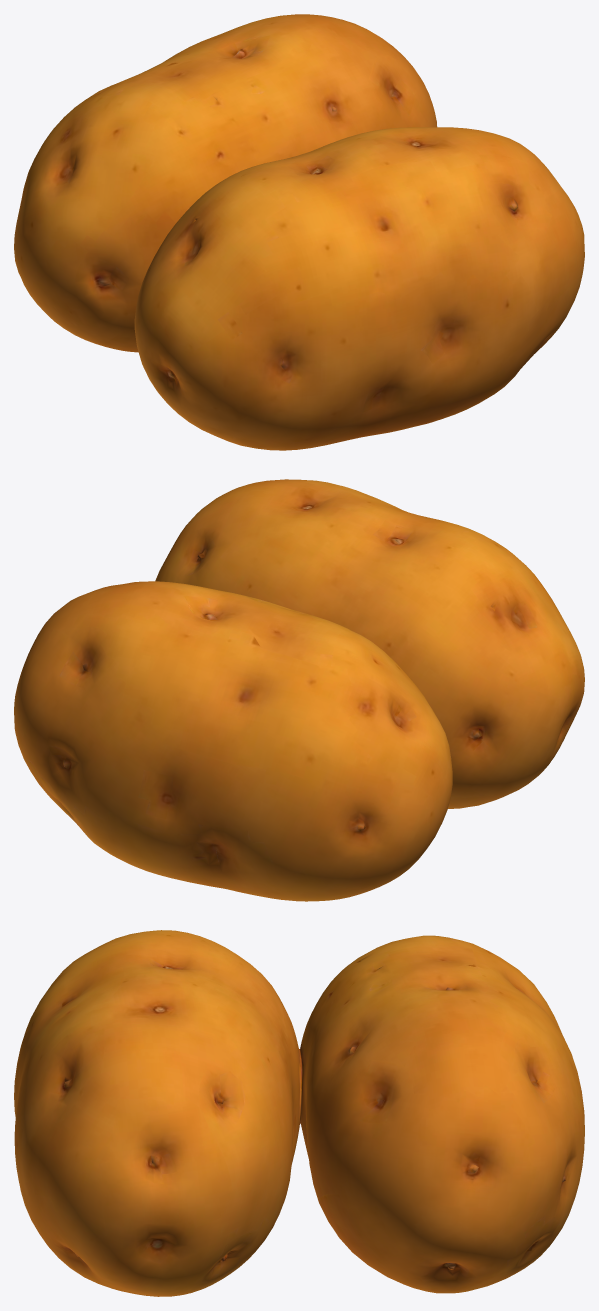
The picture shows the model from 3 angles, top to bottom: view 1: azimuth 30°, elevation 25°; view 2: azimuth 150°, elevation 25°; view 3: azimuth 270°, elevation 25°; orthographic projection. The views are drawn at different scales.
Visible parts, largest first — view 1: potato; view 2: potato; view 3: potato.
Boxes of the visible parts, x1,y1,x2,y2 form: potato: (14,14,584,450); potato: (14,479,584,901); potato: (14,930,584,1296).
Bounding box in the file's own units: 0.1412 × 0.0907 × 0.16.
1 material, 1 textured.
